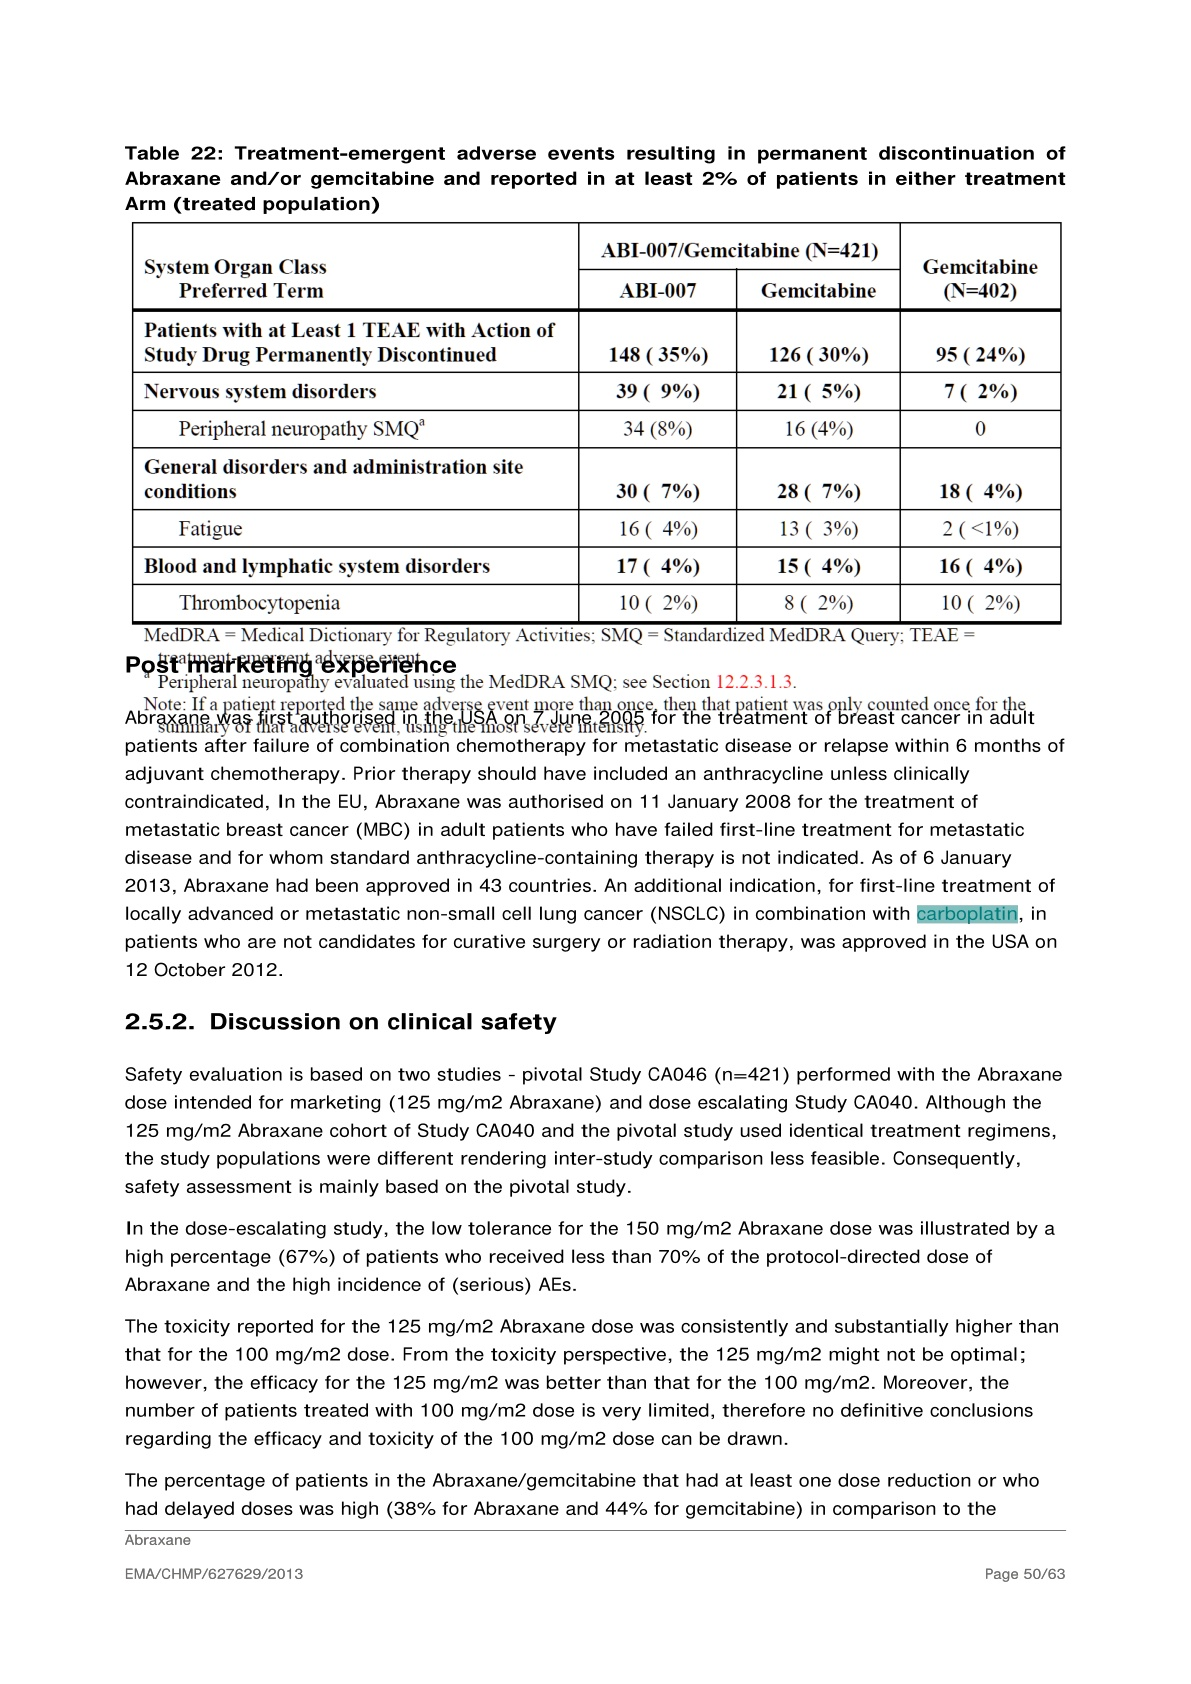merged_cells: (131, 220, 1062, 625)
